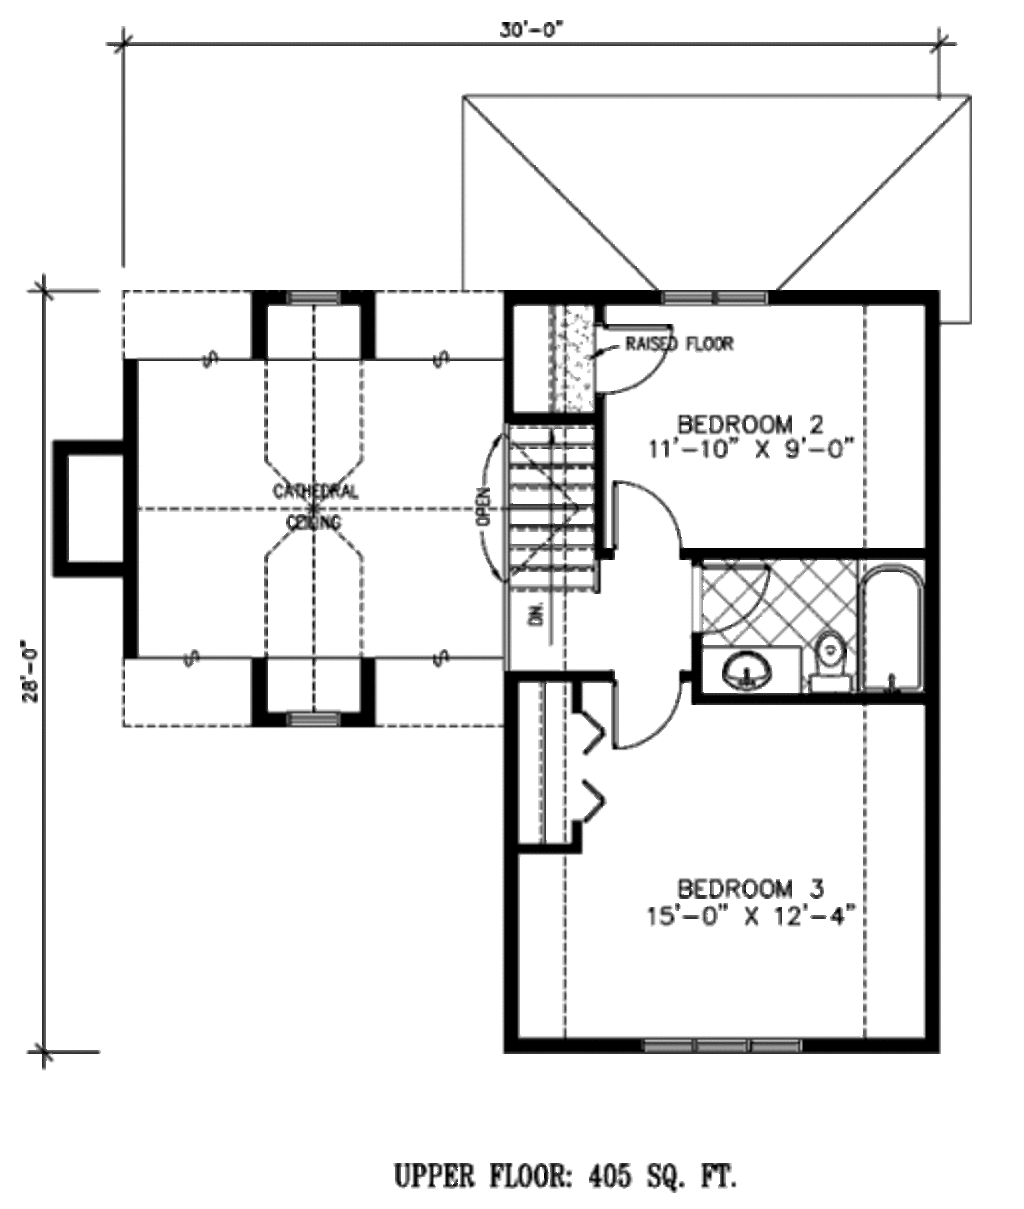door: (588, 317, 686, 410), (609, 476, 696, 560), (614, 658, 690, 745), (694, 565, 772, 637)
large_sink: (812, 622, 853, 700)
small_sink: (690, 641, 807, 697)
stairs: (505, 424, 601, 621)
tub: (855, 561, 933, 691)
window: (648, 1035, 803, 1061), (659, 285, 768, 310), (290, 704, 348, 726), (285, 287, 349, 306)
